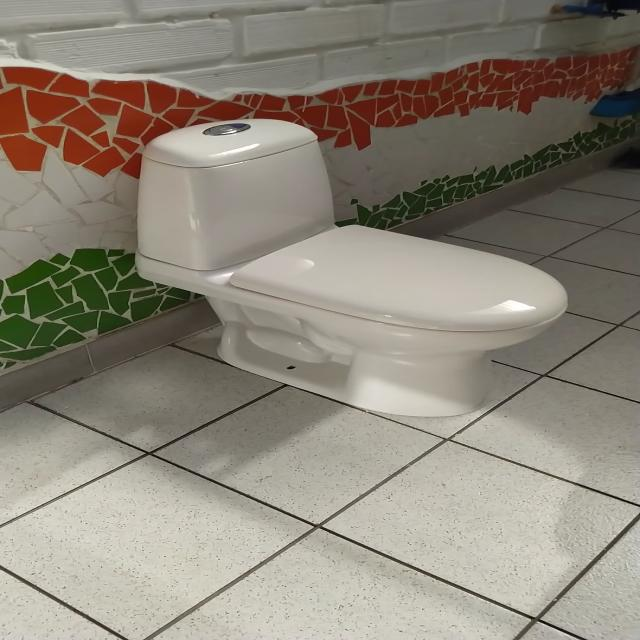toilet: (134, 118, 568, 418)
